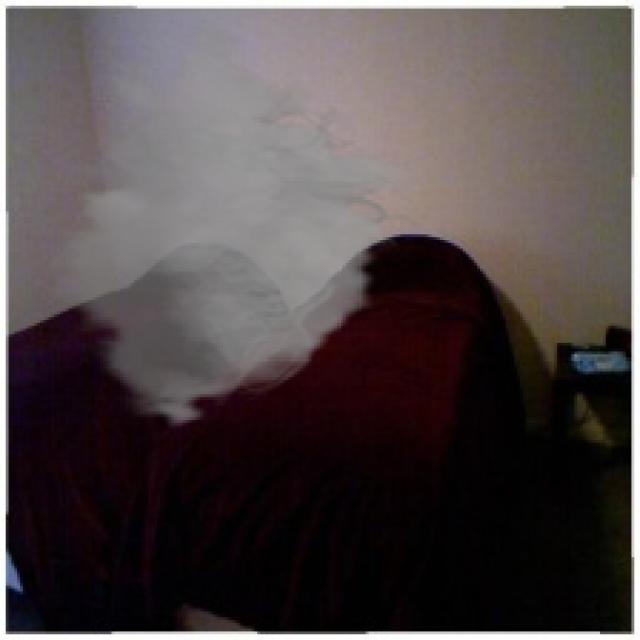smoke: (14, 20, 426, 429)
